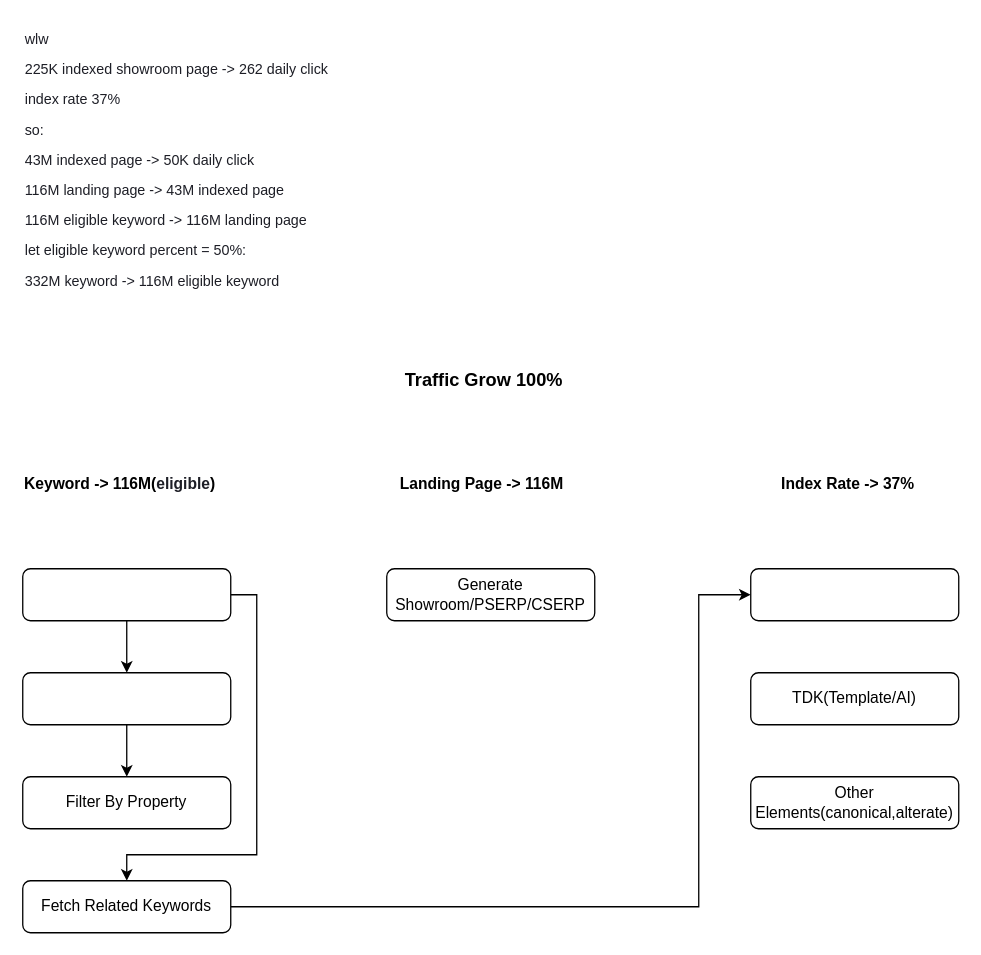
The diagram is 981 pixels wide and 955 high, and some of its shapes have lost their labels. The shapes that lost their labels are listed below. From the top down, each one's box as (x1, y1, x2, y2) in pixels, then its label:
(21, 567, 231, 621): Translate From En(50M*21)
(749, 567, 959, 621): Internal Link
(21, 671, 231, 725): Fill Keyword Info(Google,Onsite,CPV)
